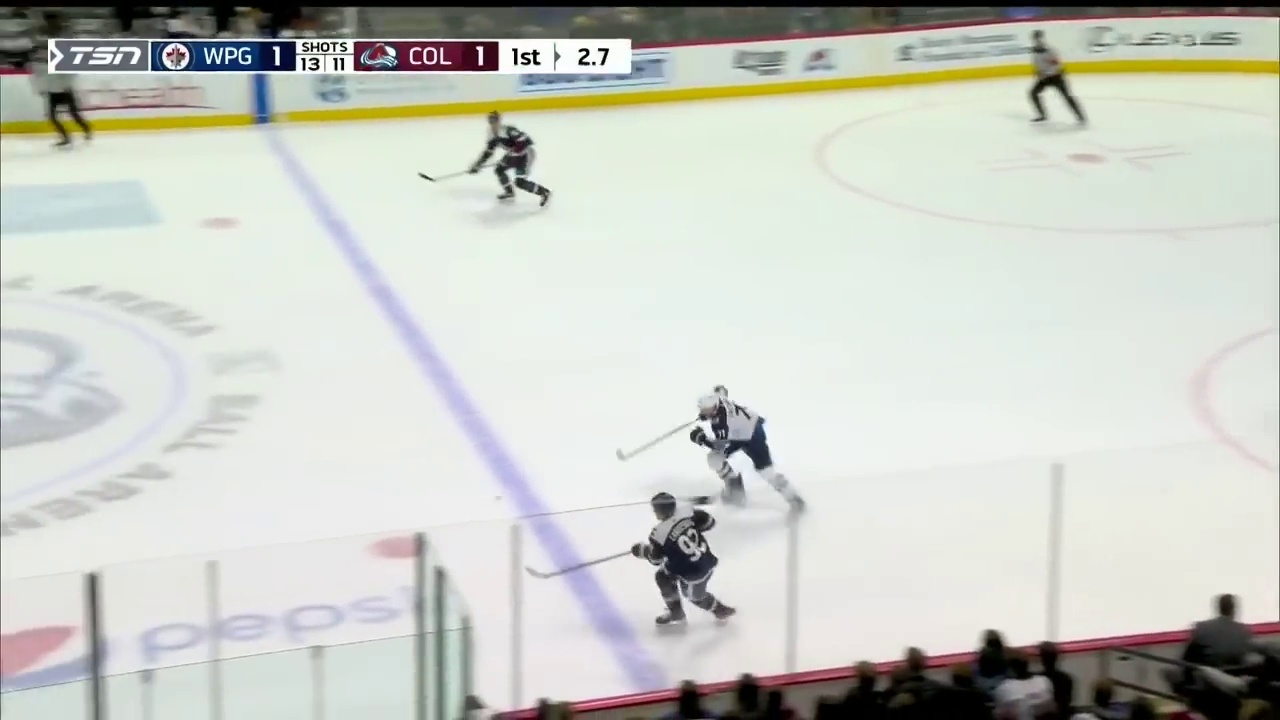hockeyplayer: (690, 385, 805, 514), (631, 491, 736, 630), (469, 111, 552, 208)
referee: (29, 46, 93, 148), (1027, 30, 1087, 125)
